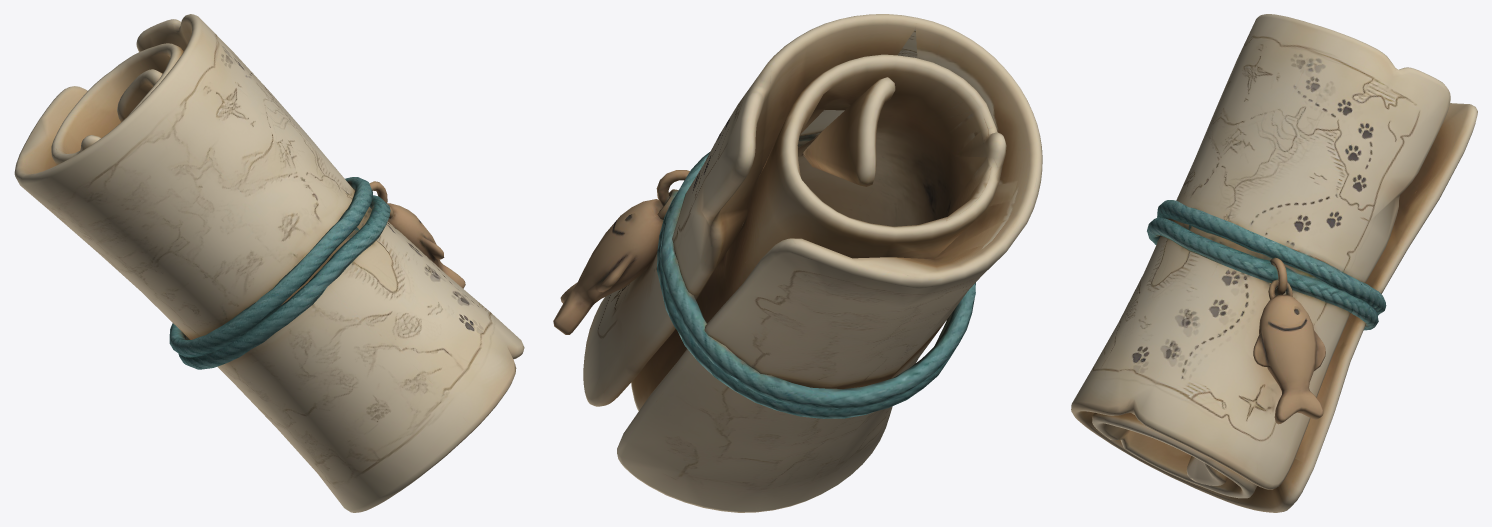
File: wandering-map.glb
3 views of the same model, side by side, from view 1: azimuth 30°, elevation 25°; view 2: azimuth 150°, elevation 25°; view 3: azimuth 270°, elevation 25° (orthographic). The views are drawn at different scales.
Visible parts, largest first — view 1: tripo_node_a73b4a55-ea8e-4779-a397-4557109ab3a1; view 2: tripo_node_a73b4a55-ea8e-4779-a397-4557109ab3a1; view 3: tripo_node_a73b4a55-ea8e-4779-a397-4557109ab3a1.
Boxes of the visible parts, x1,y1,x2,y2 form: tripo_node_a73b4a55-ea8e-4779-a397-4557109ab3a1: (14,14,524,512); tripo_node_a73b4a55-ea8e-4779-a397-4557109ab3a1: (553,14,1042,512); tripo_node_a73b4a55-ea8e-4779-a397-4557109ab3a1: (1071,14,1477,512).
Size of the model in its own units: 0.9354 by 0.9995 by 0.8635.
Materials: 1 (1 with a texture image).
